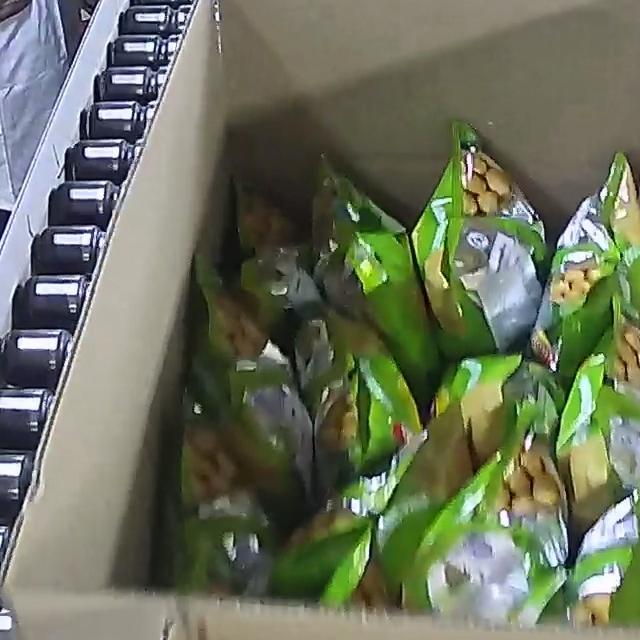yogurt: (172, 117, 640, 631)
